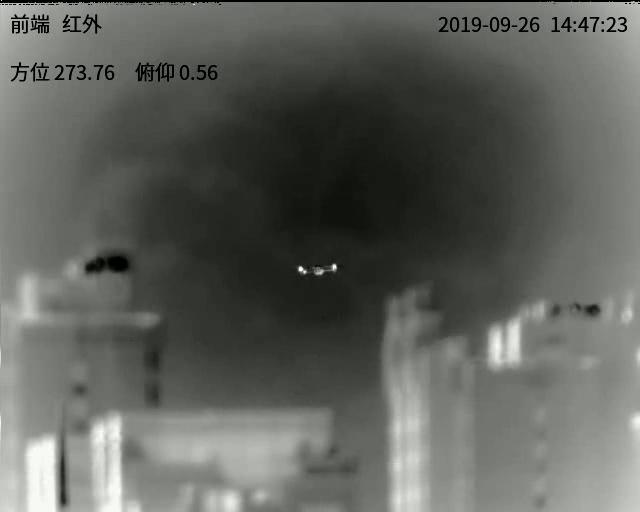DRONE: (296, 262, 339, 276)
